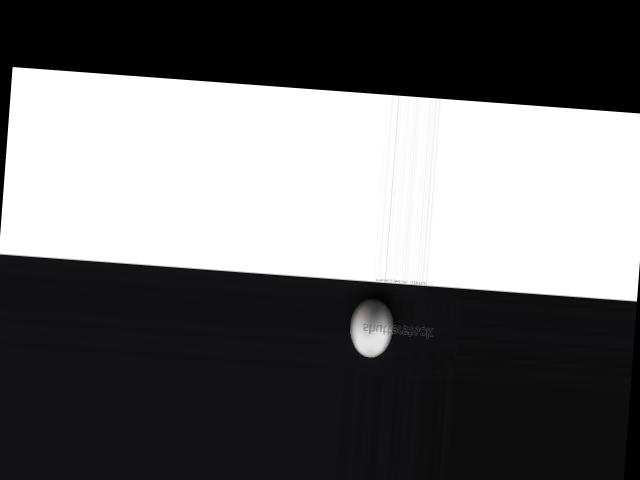egg: (347, 297, 394, 359)
